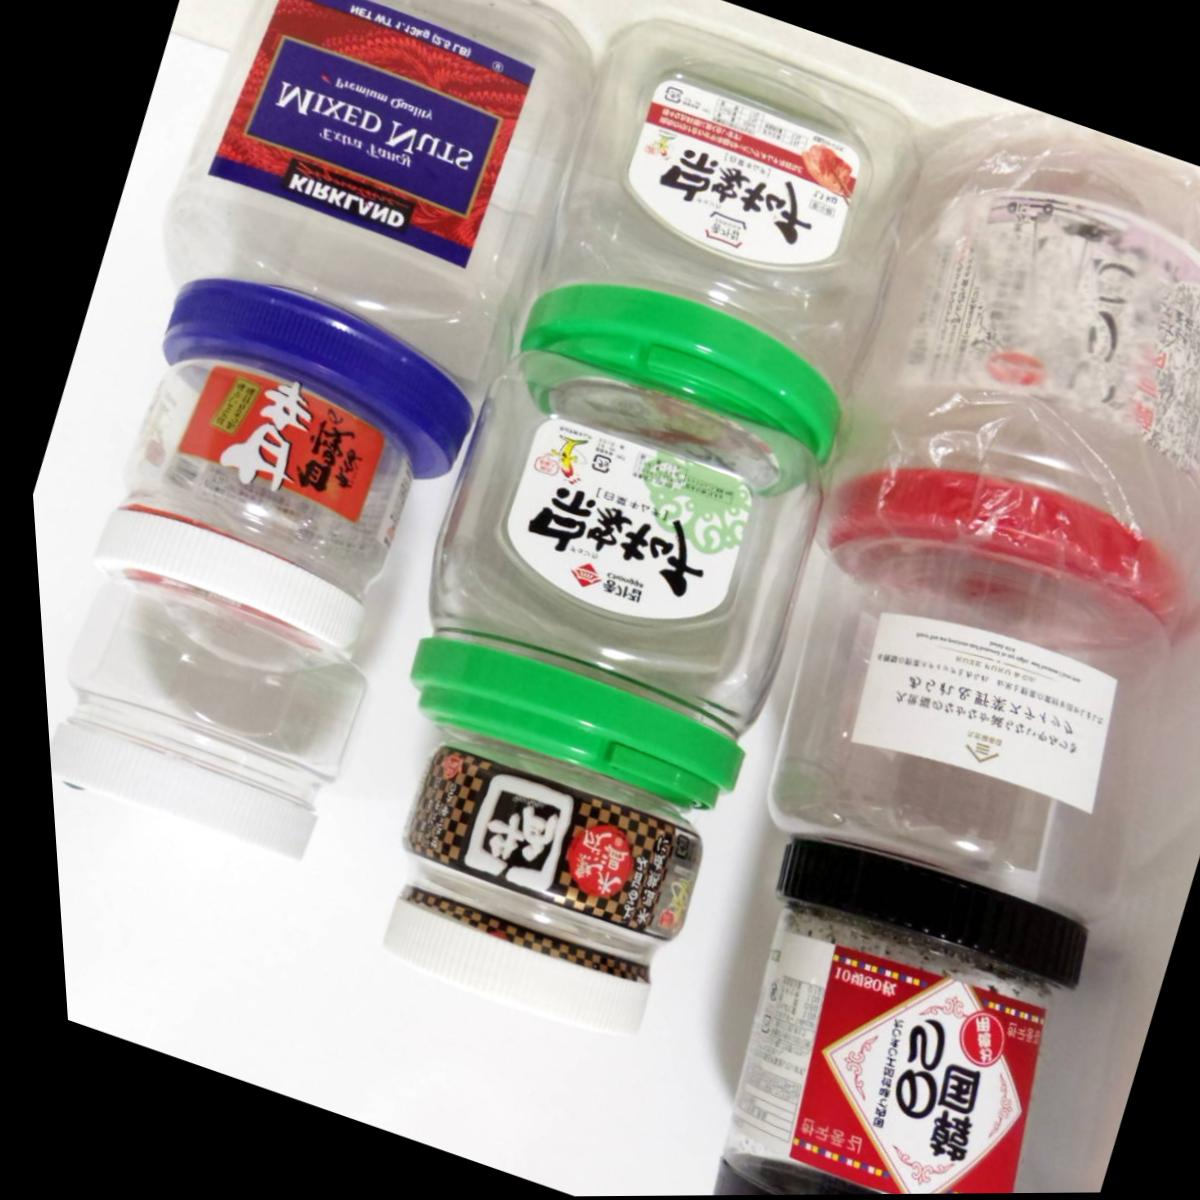plastic: (99, 0, 642, 475), (702, 498, 1200, 1004), (368, 335, 870, 827), (789, 91, 1200, 664), (486, 0, 966, 466), (669, 897, 1100, 1196), (70, 336, 444, 670), (354, 733, 727, 1057), (37, 562, 392, 871)
